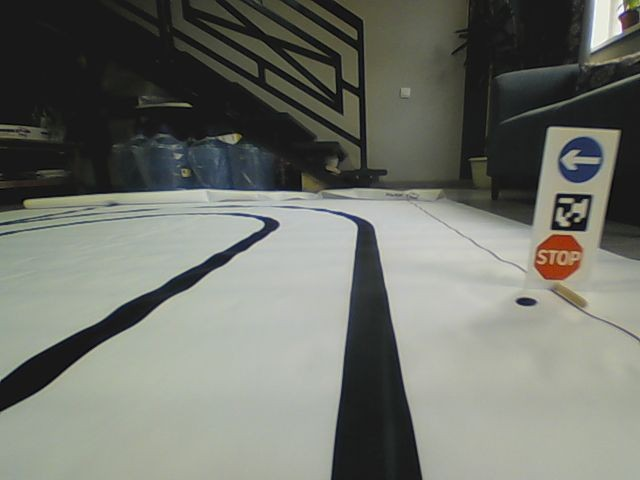Stop: (532, 231, 585, 281)
